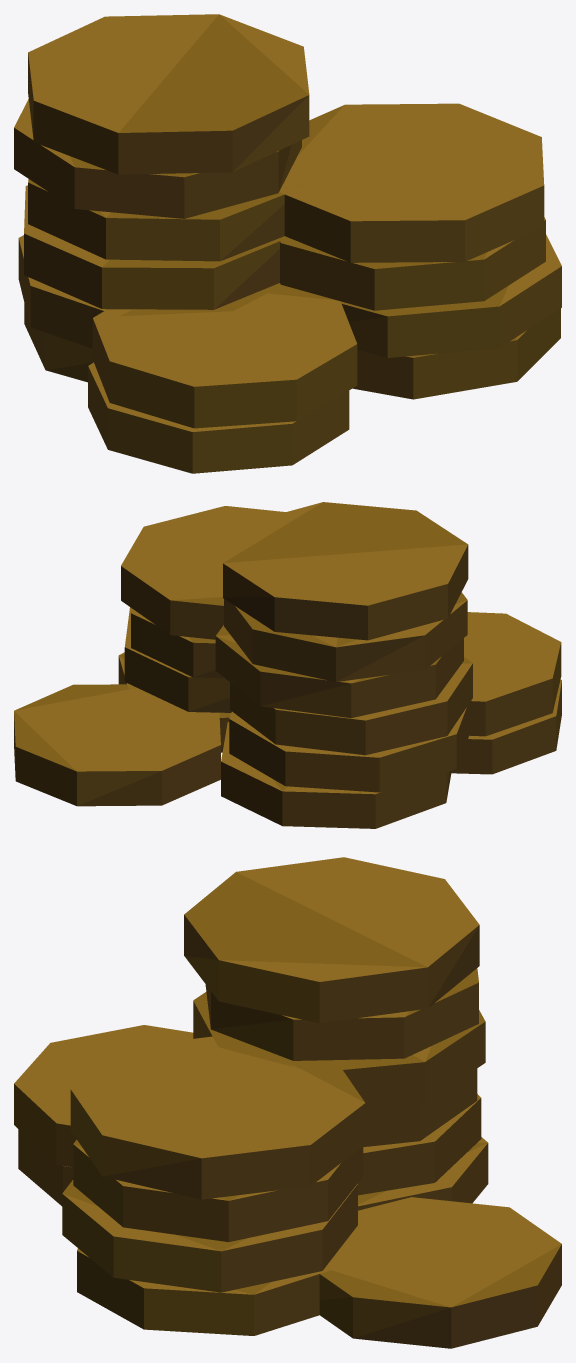
File: coin_stack_small.gltf
3 renders of one model, top to bottom at view 1: azimuth 30°, elevation 25°; view 2: azimuth 150°, elevation 25°; view 3: azimuth 270°, elevation 25°, orthographic. The views are drawn at different scales.
Visible parts, largest first — view 1: coin_stack_small; view 2: coin_stack_small; view 3: coin_stack_small.
Boxes of the visible parts, x1=… form: coin_stack_small: x1=14, y1=14, x2=561, y2=473; coin_stack_small: x1=14, y1=502, x2=561, y2=828; coin_stack_small: x1=14, y1=857, x2=561, y2=1348.
Bounding box in the file's own units: 0.8567 × 0.444 × 0.8294.
1 material, 1 textured.
